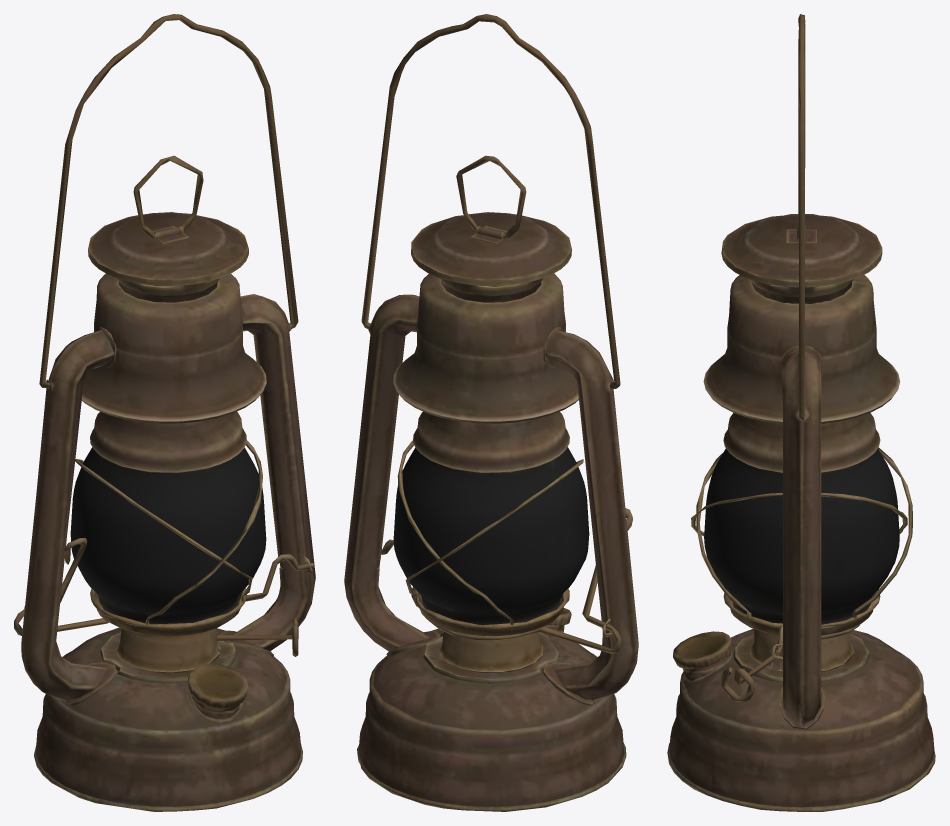
File: Lantern_01.glb
3 views of the same model, side by side, from view 1: azimuth 30°, elevation 25°; view 2: azimuth 150°, elevation 25°; view 3: azimuth 270°, elevation 25° (orthographic).
Visible parts, largest first — view 1: Lantern_01, Lantern_01_glass; view 2: Lantern_01, Lantern_01_glass; view 3: Lantern_01, Lantern_01_glass.
Part boxes in pixels (x1=…): Lantern_01: x1=14, y1=14, x2=315, y2=811; Lantern_01_glass: x1=70, y1=447, x2=266, y2=624; Lantern_01: x1=344, y1=14, x2=638, y2=811; Lantern_01_glass: x1=393, y1=447, x2=589, y2=625; Lantern_01: x1=667, y1=14, x2=935, y2=811; Lantern_01_glass: x1=704, y1=448, x2=899, y2=624.
Size of the model in its own units: 0.1219 by 0.2939 by 0.0967.
2 materials, 2 textured.
